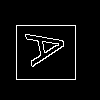A: (25, 25, 77, 68)
